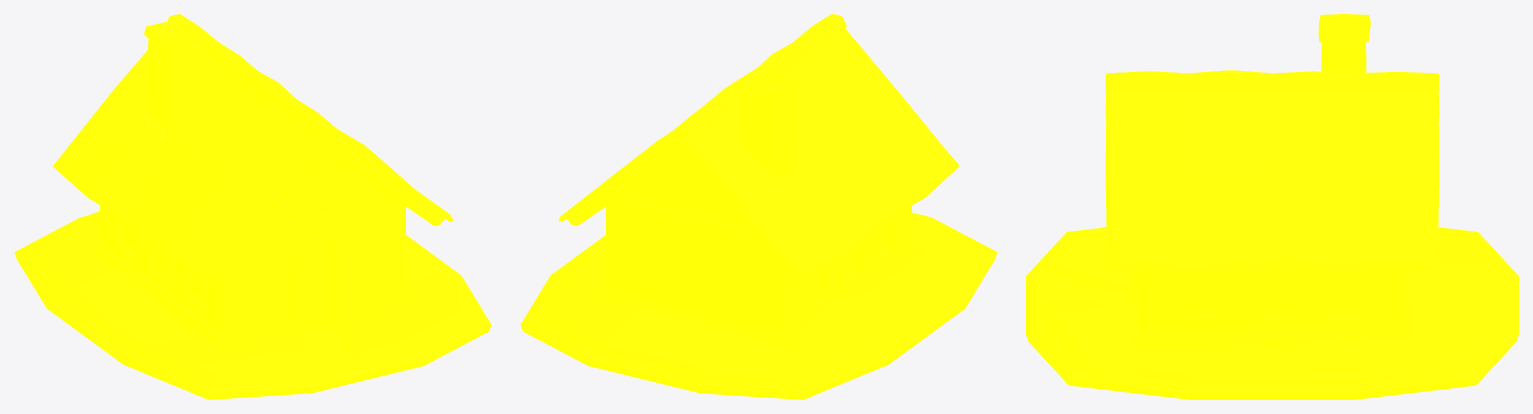
File: ginger-house.glb
3 views of the same model, side by side, from view 1: azimuth 30°, elevation 25°; view 2: azimuth 150°, elevation 25°; view 3: azimuth 270°, elevation 25° (orthographic). The views are drawn at different scales.
Parts seen in each view (by area): view 1: ginger_house; view 2: ginger_house; view 3: ginger_house.
Part boxes in pixels (x1,y1,x2,y2): ginger_house: (14, 14, 491, 399); ginger_house: (520, 14, 997, 399); ginger_house: (1026, 14, 1518, 399).
Size of the model in its own units: 0.2657 by 0.1883 by 0.3146.
Materials: 1 (1 with a texture image).
